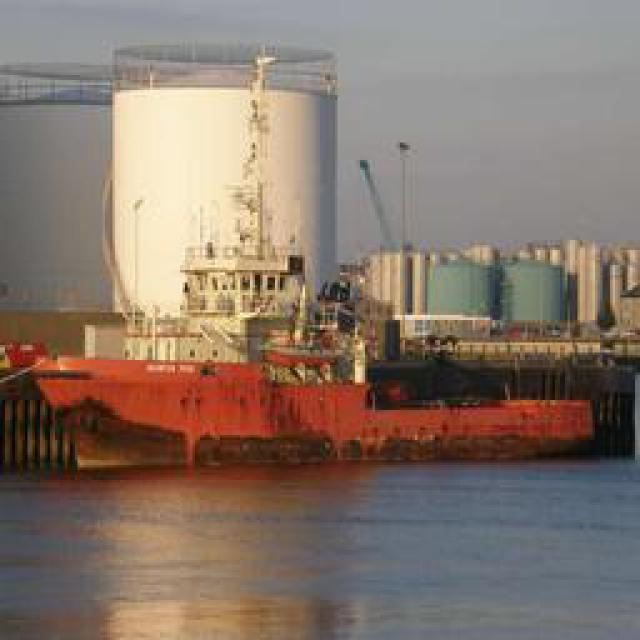Ship: (15, 224, 640, 483)
